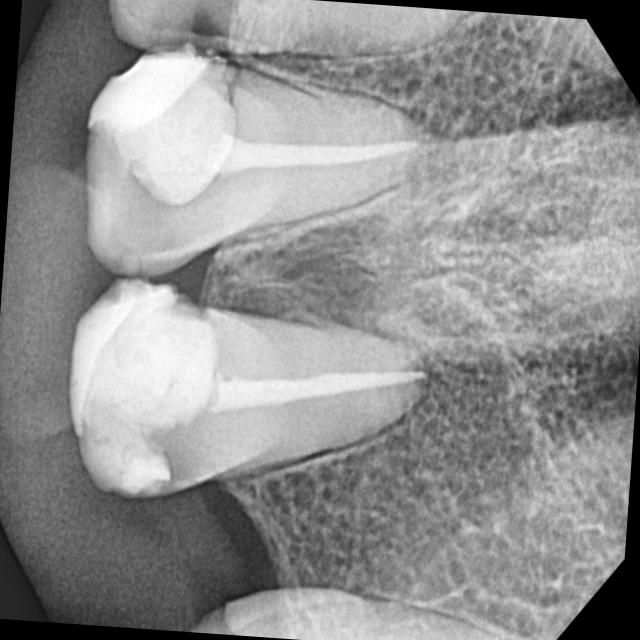Crown: (55, 268, 234, 541)
RCT: (94, 77, 442, 281), (193, 310, 440, 461)
Restoration: (64, 29, 234, 156)
